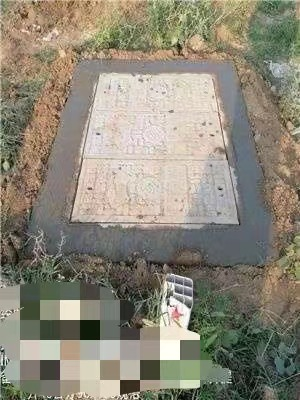well: (66, 69, 243, 230)
